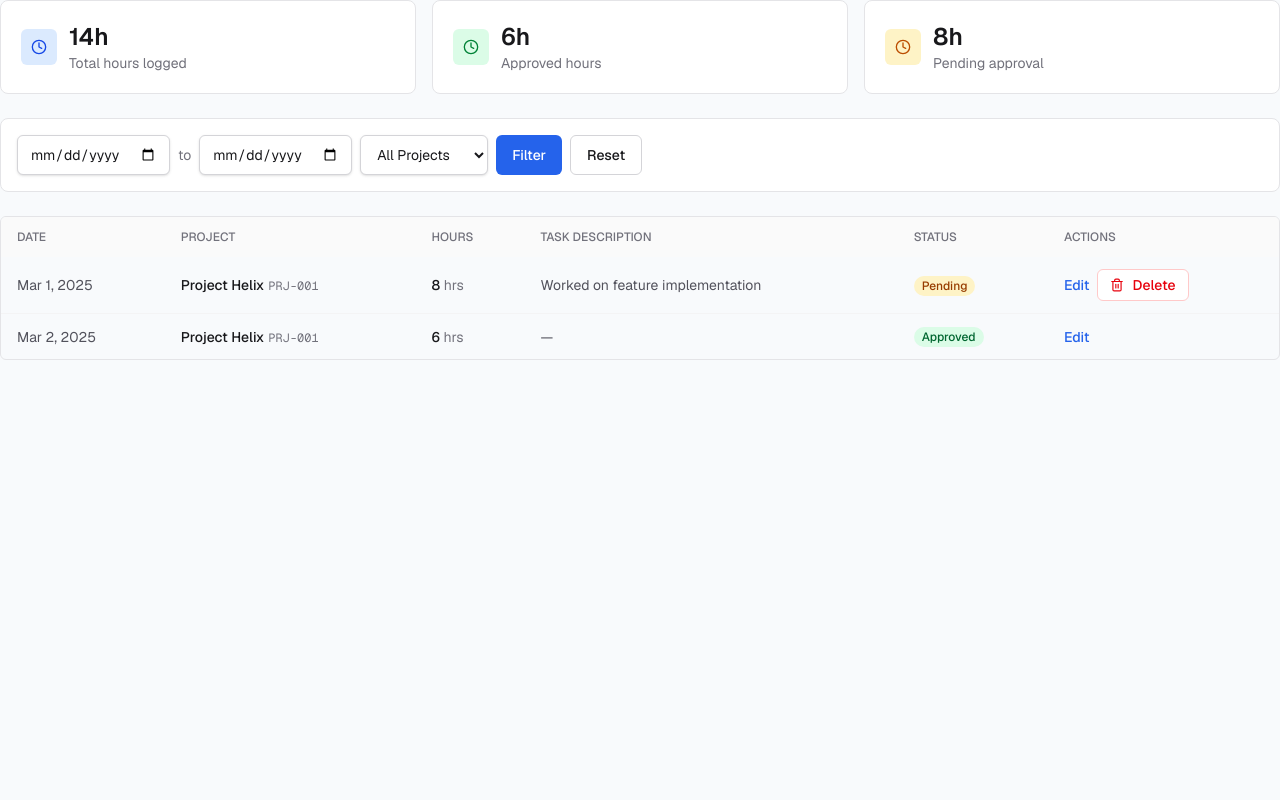
Test: TimesheetHistoryTable › surfaces an error message when deleting an entry fails
Click the button "Delete". click: (1143, 285)
box: [1097,269,1188,301]
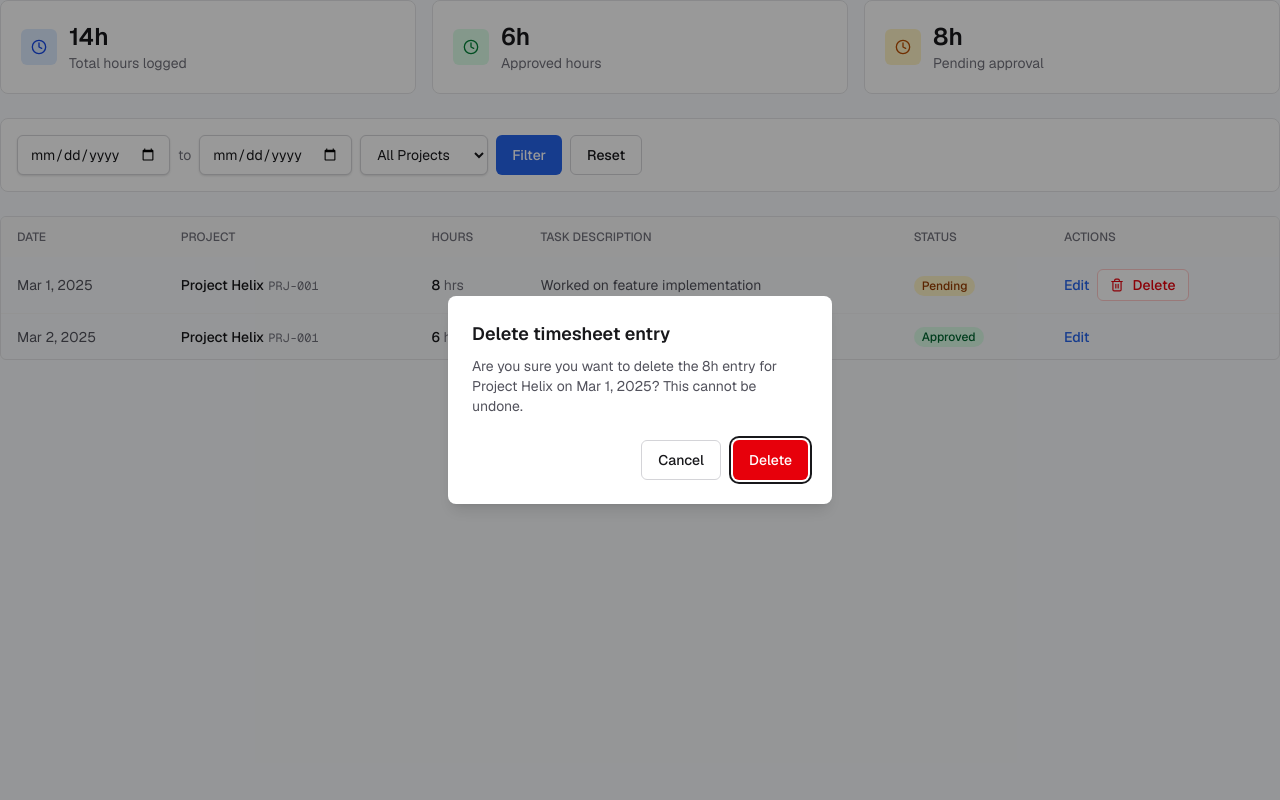
Click the button "Delete". click: (770, 460)
box: [733,440,808,480]
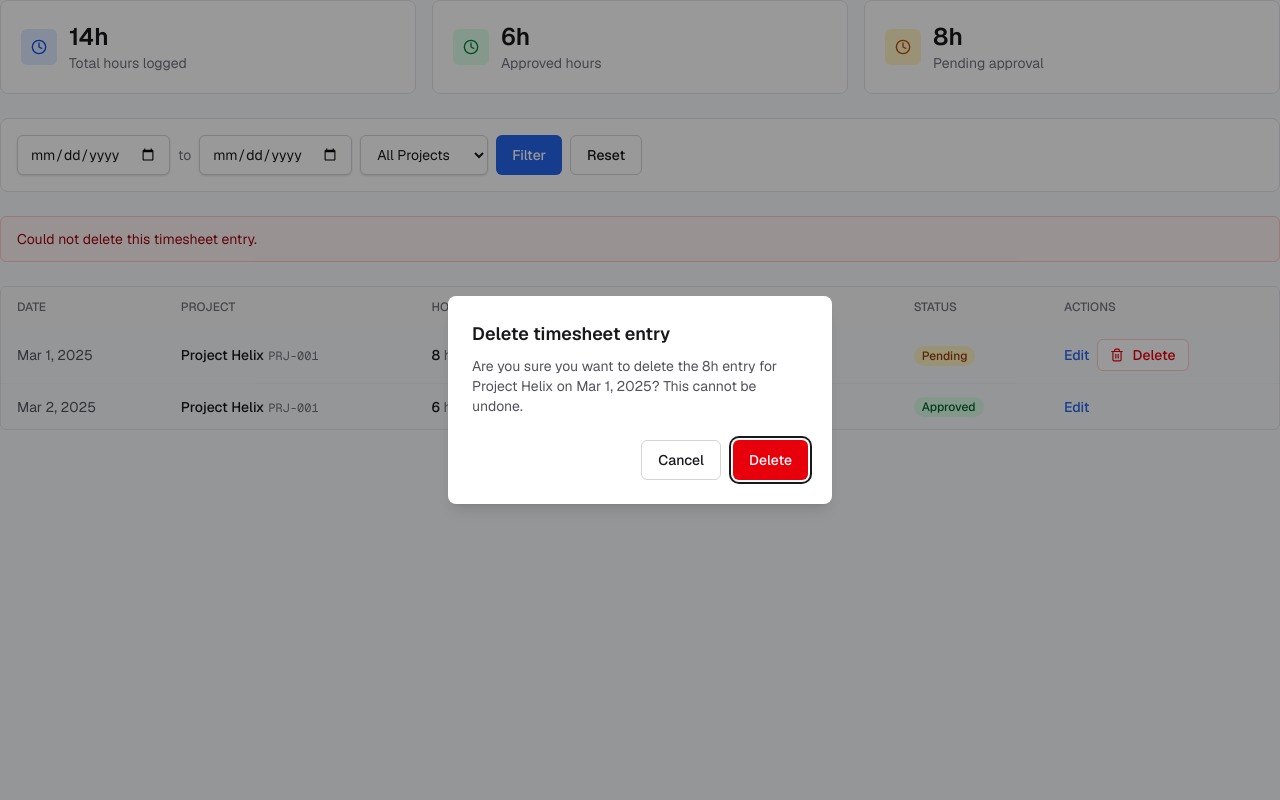
Result: the text "Could not delete this timesheet entry." is shown at [0,216,1279,262]
